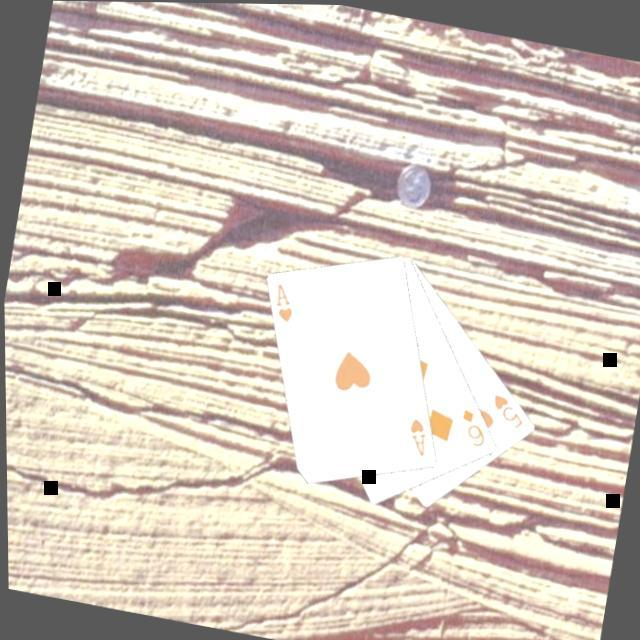5H: (483, 387, 527, 430)
6D: (450, 401, 491, 448)
AH: (265, 276, 299, 323), (399, 409, 431, 456)
